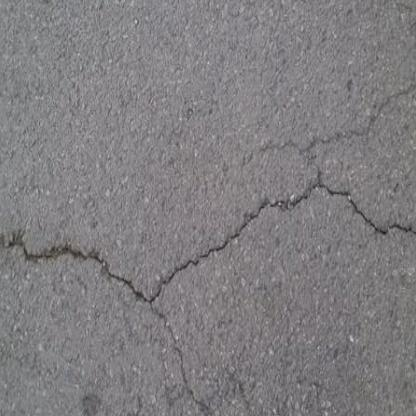Cracks: (164, 174, 416, 287), (218, 47, 416, 190), (0, 204, 162, 318), (140, 288, 231, 416)
